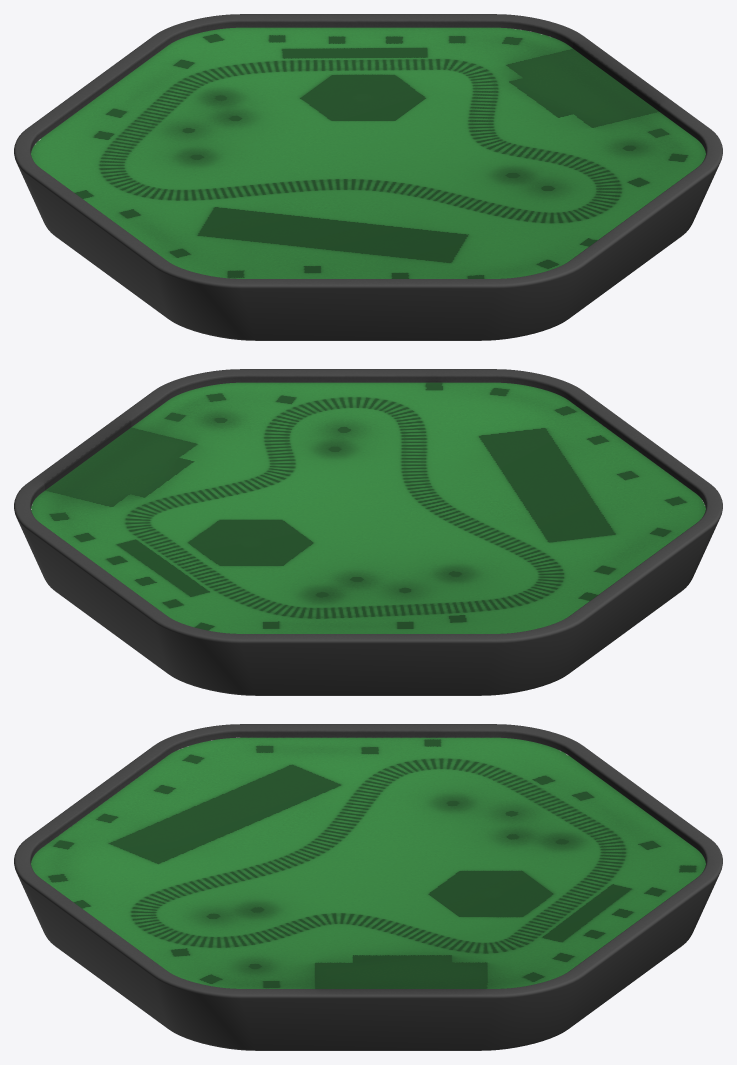
Rendered from 3P_Ground.glb.
The picture shows the model from 3 angles, top to bottom: view 1: azimuth 30°, elevation 25°; view 2: azimuth 150°, elevation 25°; view 3: azimuth 270°, elevation 25°; orthographic projection.
Visible parts, largest first — view 1: ParkGround; view 2: ParkGround; view 3: ParkGround.
Boxes of the visible parts, bbox=[...] form: ParkGround: bbox=[14, 14, 722, 340]; ParkGround: bbox=[14, 369, 722, 695]; ParkGround: bbox=[14, 724, 722, 1050].
Bounding box in the file's own units: 17.26 × 2 × 19.01.
Materials: 1 (1 with a texture image).
